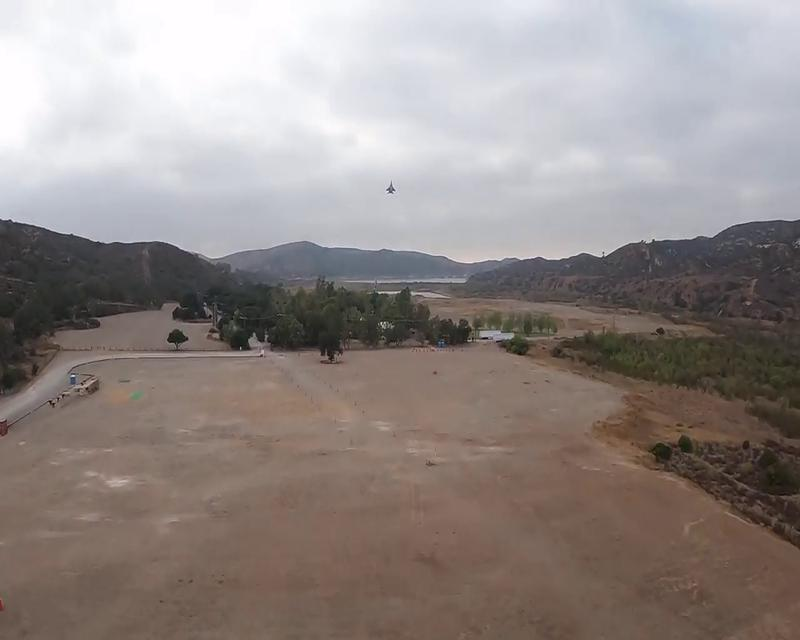UAV: (383, 178, 396, 196)
